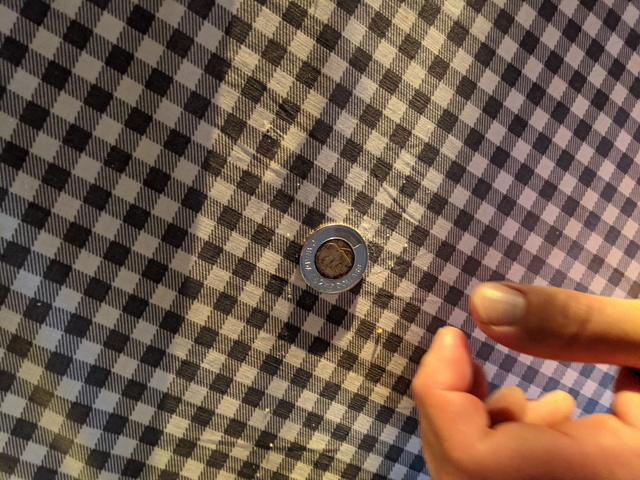twonie: (298, 227, 367, 309)
